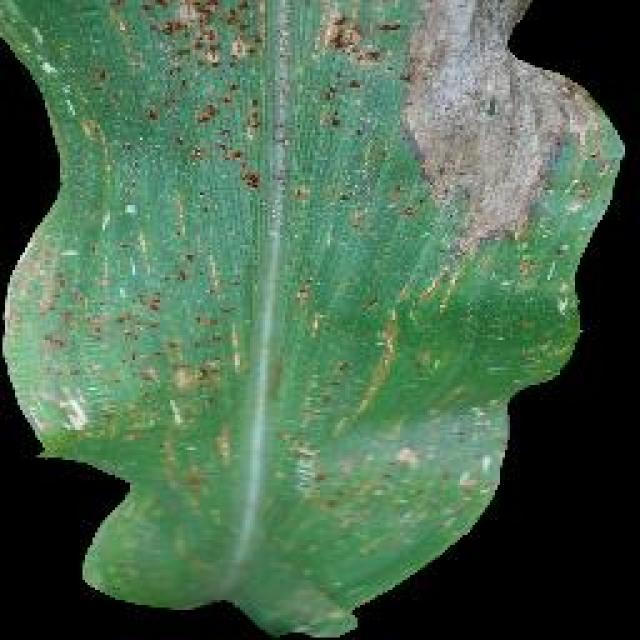Corn Common Rust: (62, 27, 640, 555)
